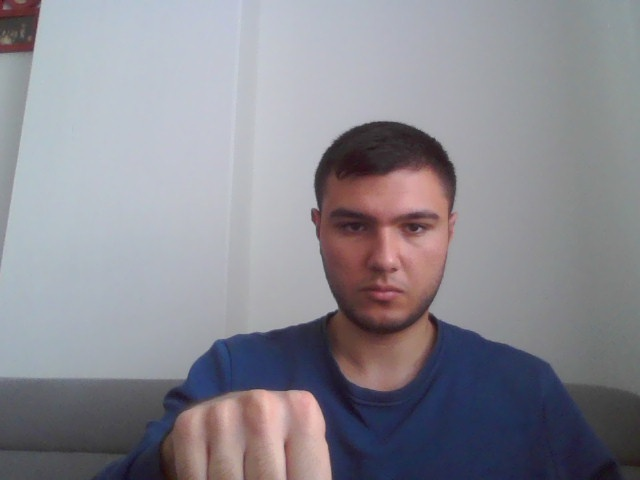yes: (168, 385, 338, 473)
